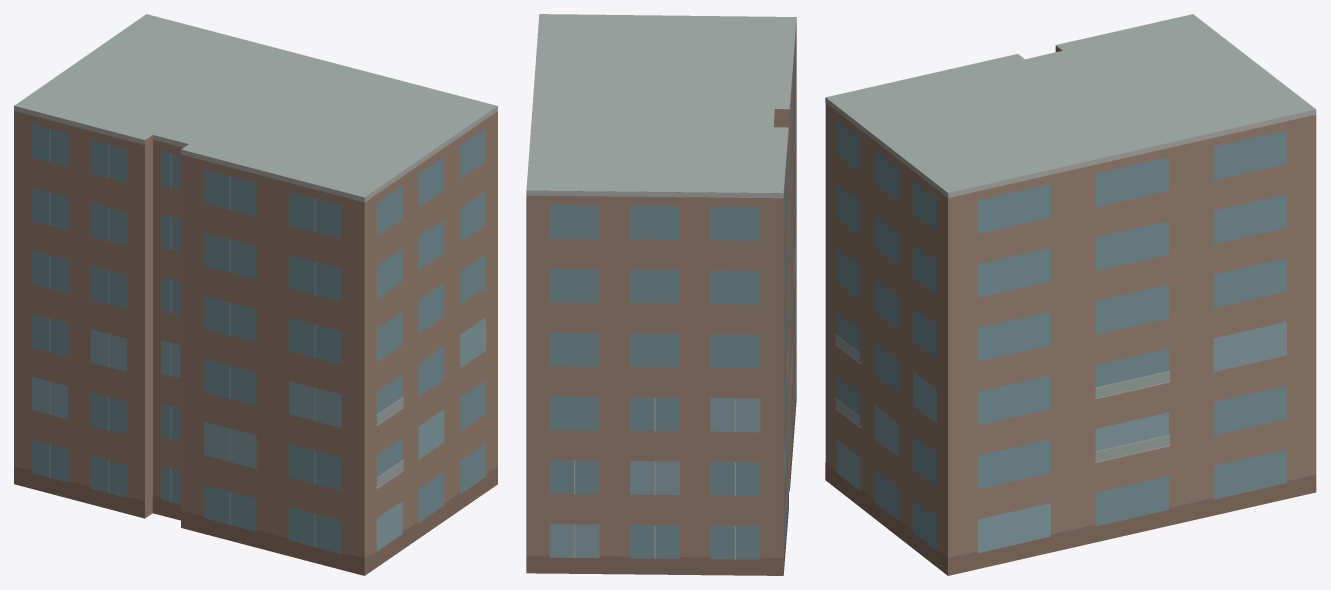
The model's file is survey-upis-33001432.glb.
The picture shows the model from 3 angles, left to right: view 1: azimuth 30°, elevation 25°; view 2: azimuth 150°, elevation 25°; view 3: azimuth 270°, elevation 25°; orthographic projection.
Parts seen in each view (by area): view 1: survey-upis-33001432.tmp; view 2: survey-upis-33001432.tmp; view 3: survey-upis-33001432.tmp.
Boxes of the visible parts, box(x1,y1,x2,y2) form: survey-upis-33001432.tmp: box(14, 14, 497, 575); survey-upis-33001432.tmp: box(526, 14, 796, 575); survey-upis-33001432.tmp: box(825, 14, 1316, 575).
Size of the model in its own units: 18.36 by 18.3 by 21.27.
